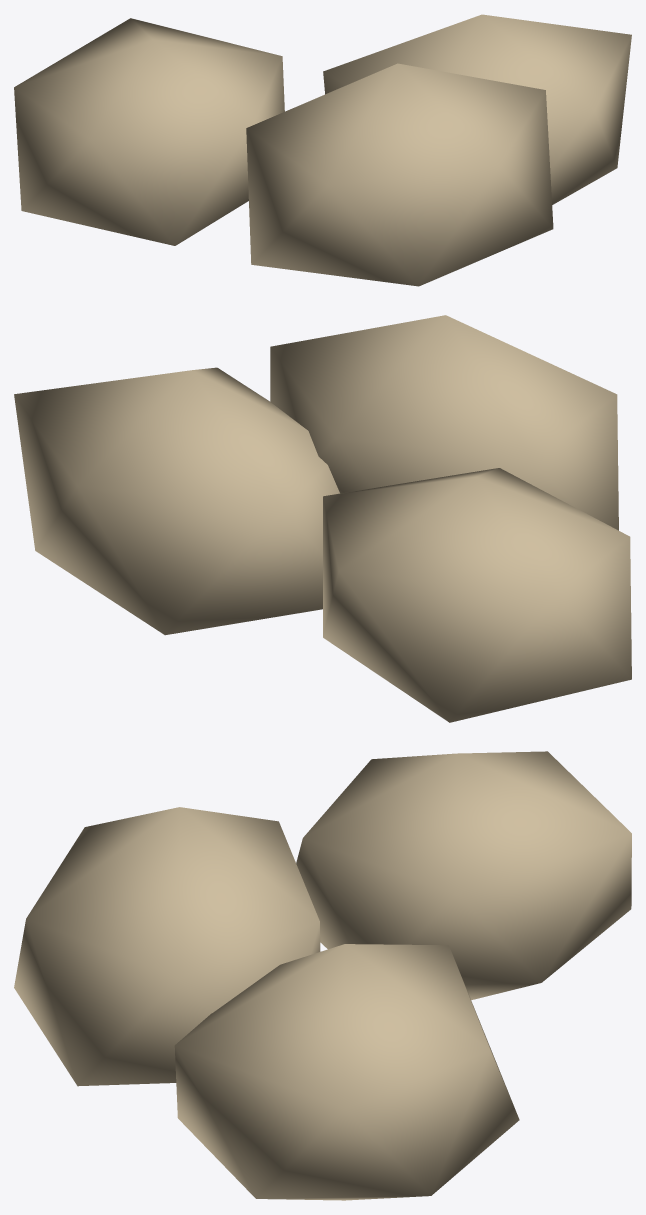
The model's file is crown_b.glb.
3 renders of one model, top to bottom at view 1: azimuth 30°, elevation 25°; view 2: azimuth 150°, elevation 25°; view 3: azimuth 270°, elevation 25°, orthographic. The views are drawn at different scales.
Visible parts, largest first — view 1: WB002V2_SunnyFoliage.001; view 2: WB002V2_SunnyFoliage.001; view 3: WB002V2_SunnyFoliage.001.
Boxes of the visible parts, x1,y1,x2,y2 form: WB002V2_SunnyFoliage.001: (14, 14, 631, 286); WB002V2_SunnyFoliage.001: (14, 315, 631, 722); WB002V2_SunnyFoliage.001: (14, 751, 631, 1200).
Size of the model in its own units: 4.49 by 1.8 by 3.36.
